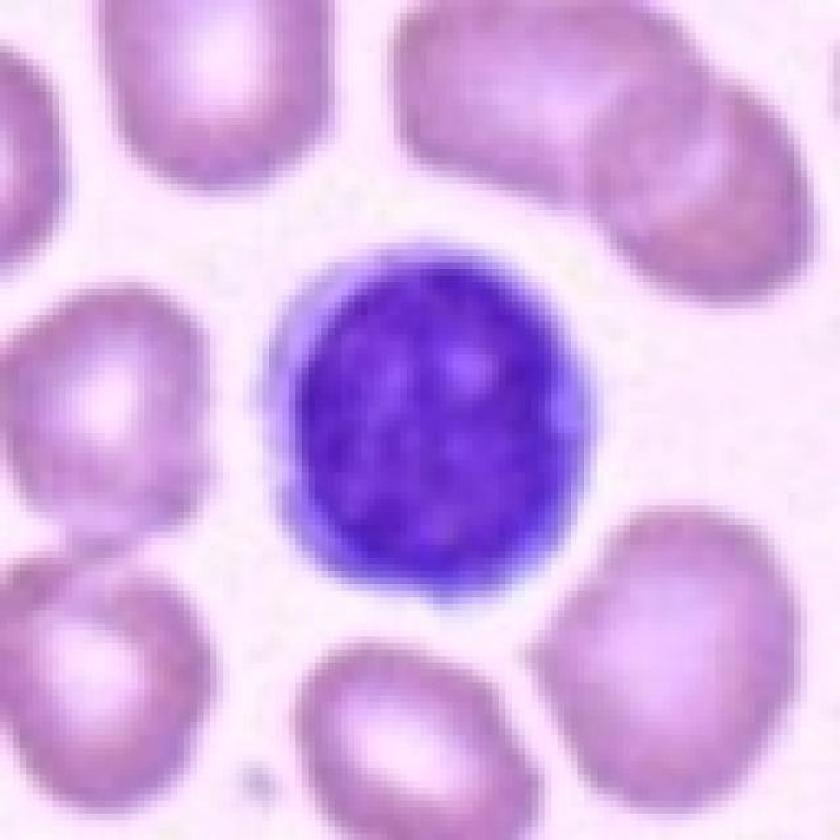lymphocyte: (247, 229, 609, 606)
